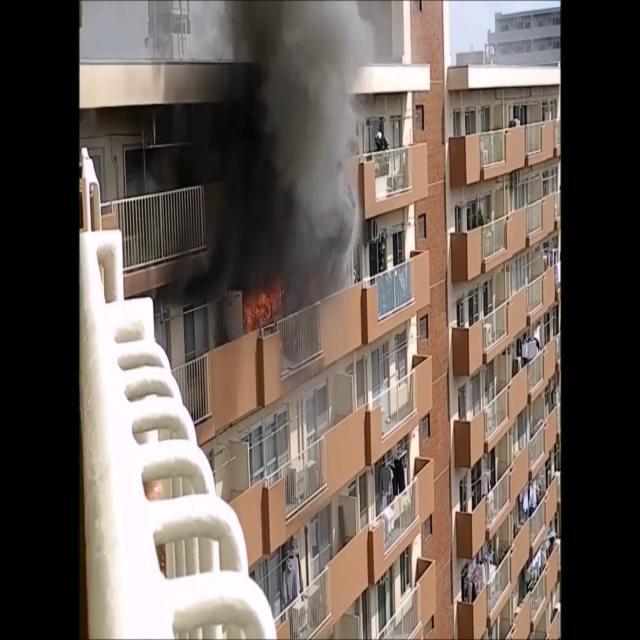Smoke: (138, 1, 370, 334)
